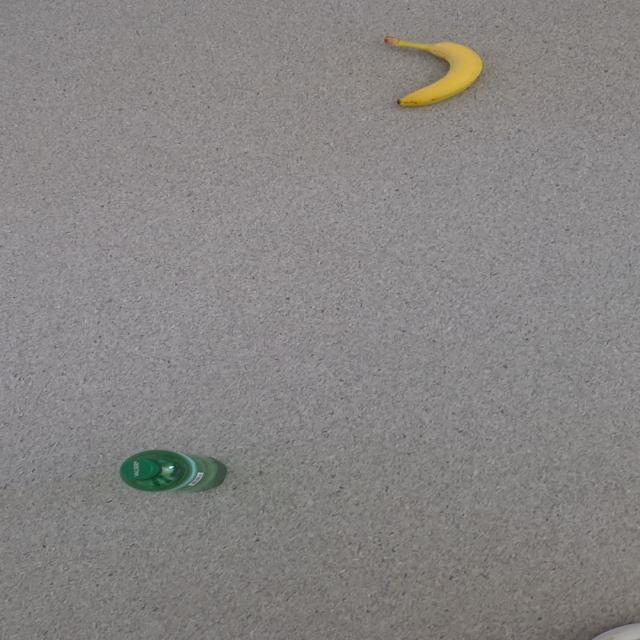banana: (382, 36, 483, 107)
bottle: (118, 450, 227, 492)
